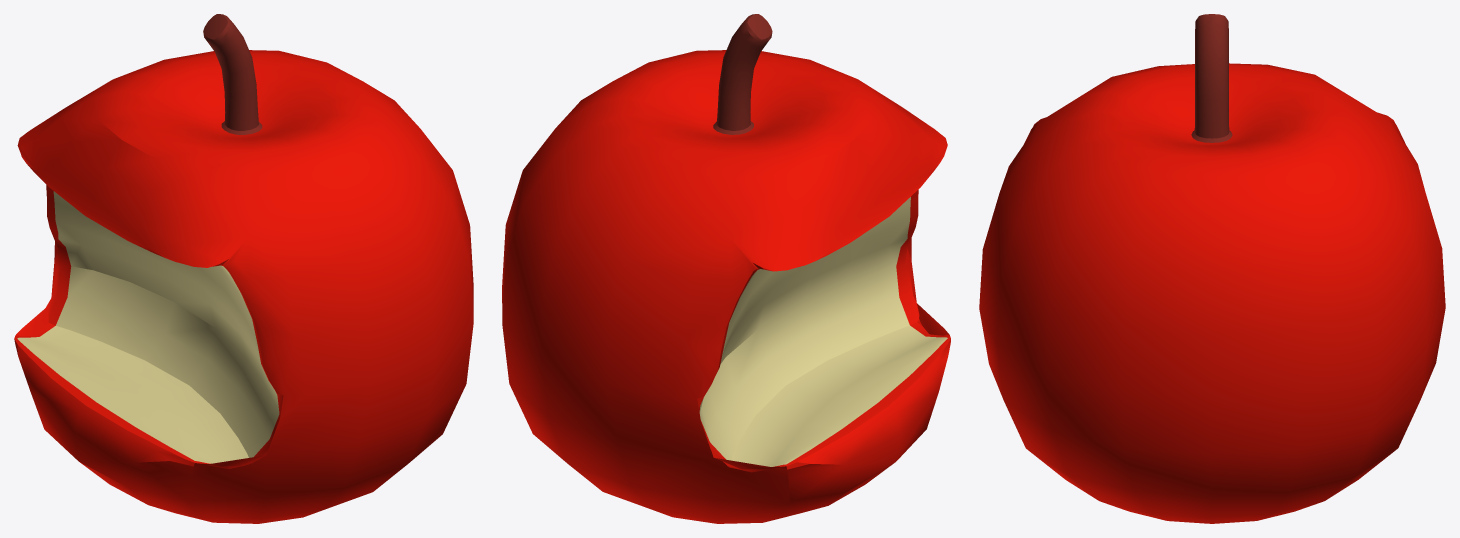
The model's file is apel.fbx.
3 renders of one model, left to right at view 1: azimuth 30°, elevation 25°; view 2: azimuth 150°, elevation 25°; view 3: azimuth 270°, elevation 25°, orthographic. The views are drawn at different scales.
Parts seen in each view (by area): view 1: Plane.033; view 2: Plane.033; view 3: Plane.033.
Boxes of the visible parts, <box> form: Plane.033: <box>14,14,473,523</box>; Plane.033: <box>502,14,950,523</box>; Plane.033: <box>979,14,1445,523</box>.
Bounding box in the file's own units: 165 × 203 × 186.
